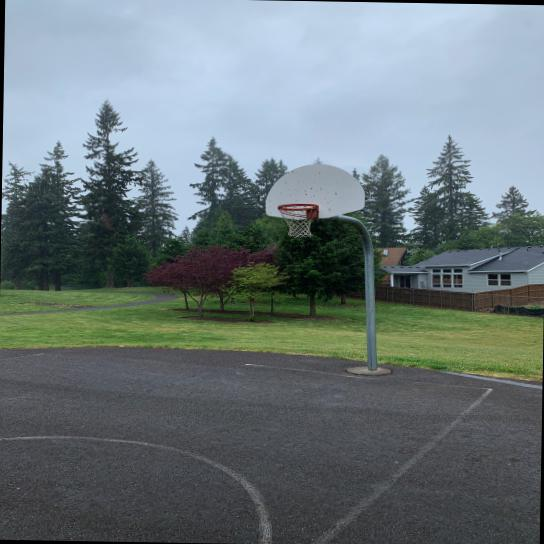basketball-hoop: (276, 202, 320, 238)
